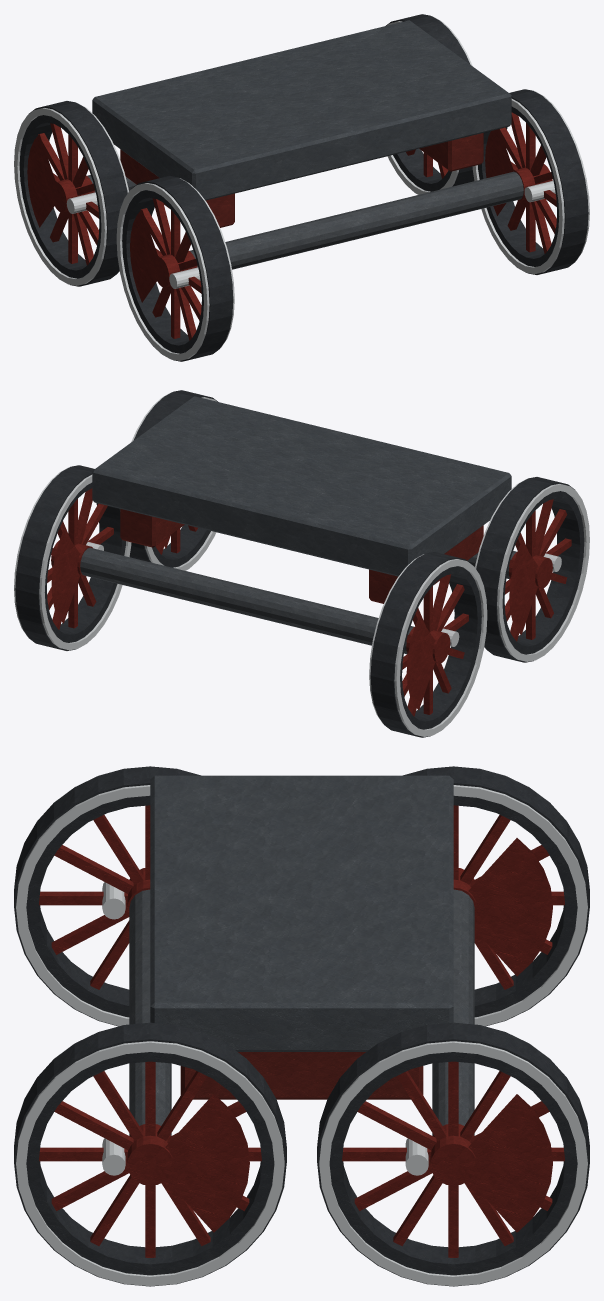
The model's file is train_bogie.gltf.
The picture shows the model from 3 angles, top to bottom: view 1: azimuth 30°, elevation 25°; view 2: azimuth 150°, elevation 25°; view 3: azimuth 270°, elevation 25°; orthographic projection. The views are drawn at different scales.
Bounding box in the file's own units: 2.17 × 0.95 × 1.9.
15 materials, 11 textured.
